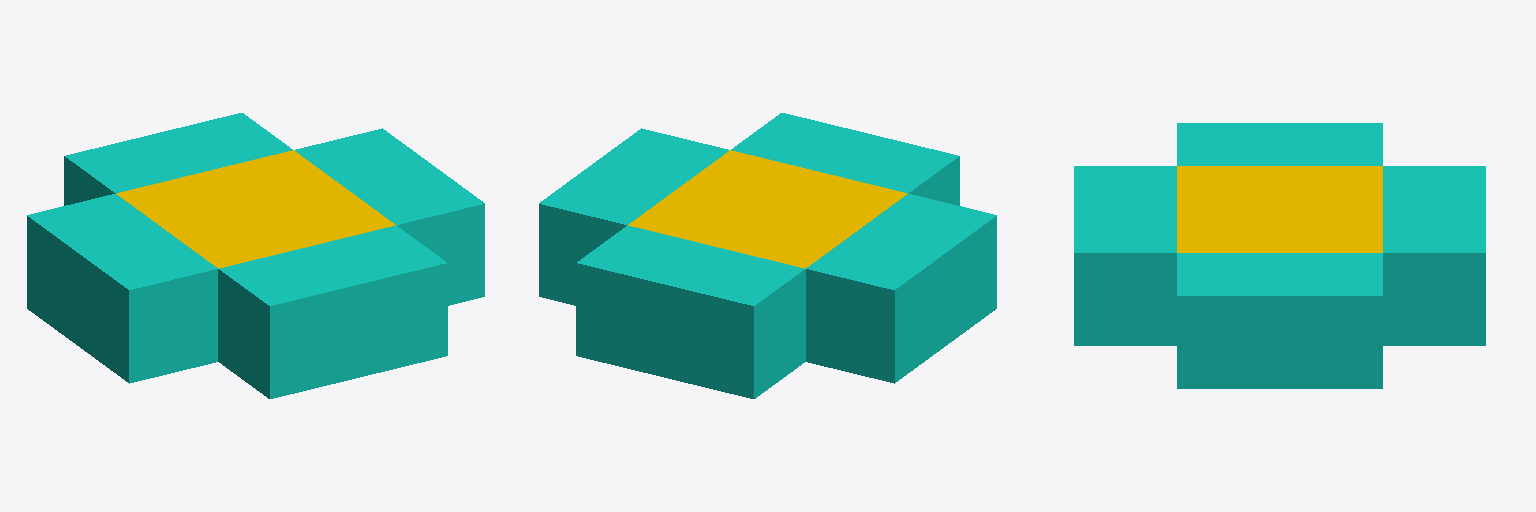
The picture shows the model from 3 angles: view 1: azimuth 30°, elevation 25°; view 2: azimuth 150°, elevation 25°; view 3: azimuth 270°, elevation 25°; orthographic projection.
Visible parts, largest first — view 1: object 1; view 2: object 1; view 3: object 1.
Boxes of the visible parts, x1=… form: object 1: x1=27, y1=113, x2=484, y2=398; object 1: x1=539, y1=113, x2=996, y2=398; object 1: x1=1074, y1=123, x2=1485, y2=388.
Bounding box in the file's own units: 0.4 × 0.1 × 0.4.
1 materials, 1 textured.